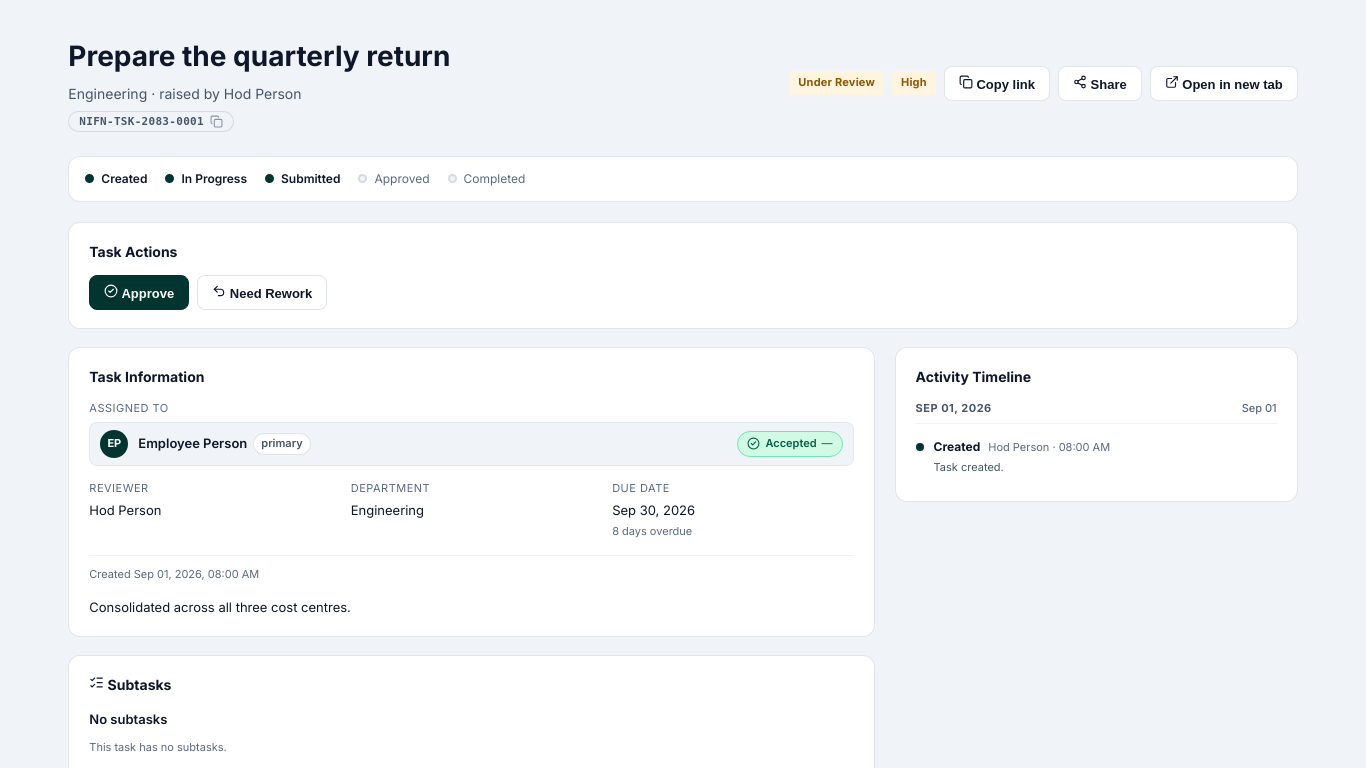
Test: task detail › reports a refused transition instead of failing silently
The image size is (1366, 768).
Expected: the heading "Task Information" is shown, [89, 368, 204, 385]
Click the button "Approve" at [139, 292], box [89, 275, 189, 310]
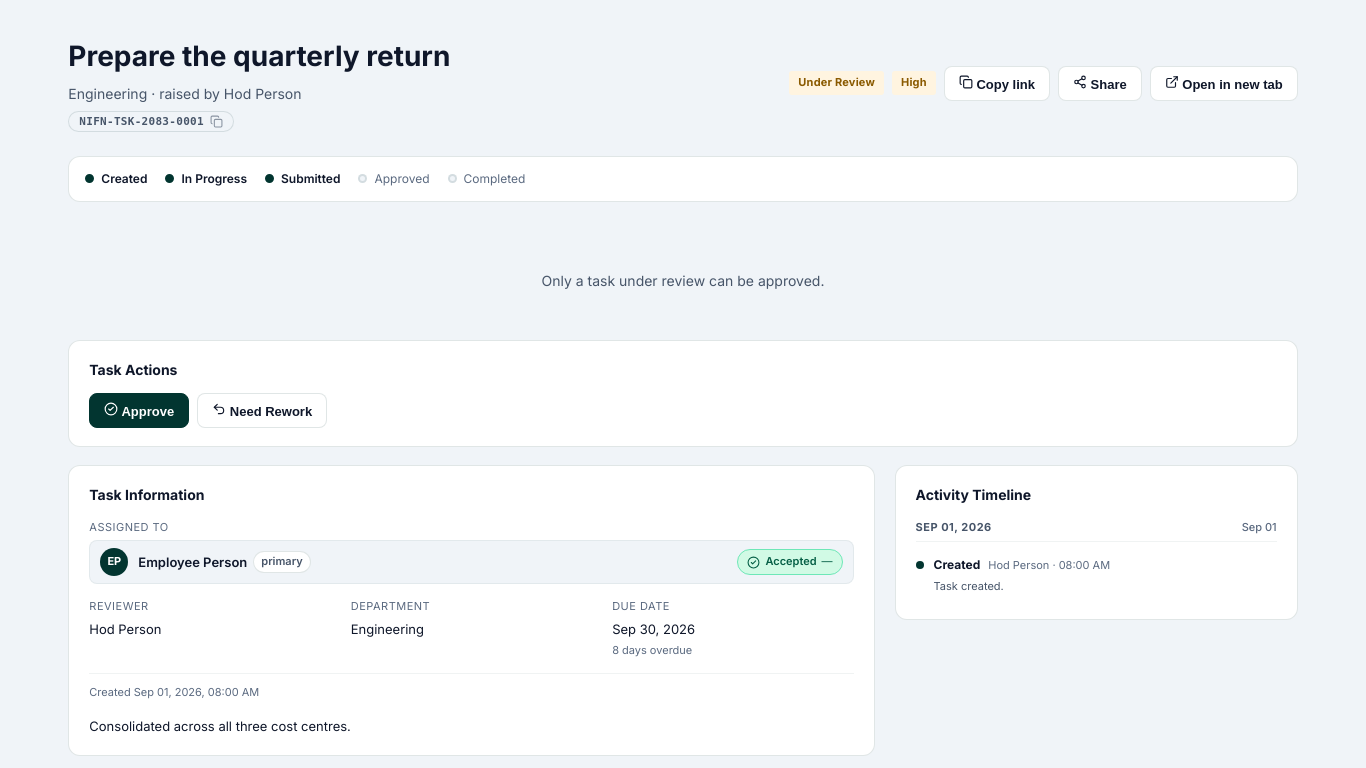
Now the message reads "Only a task under review can be approved.", box [542, 272, 824, 288]
